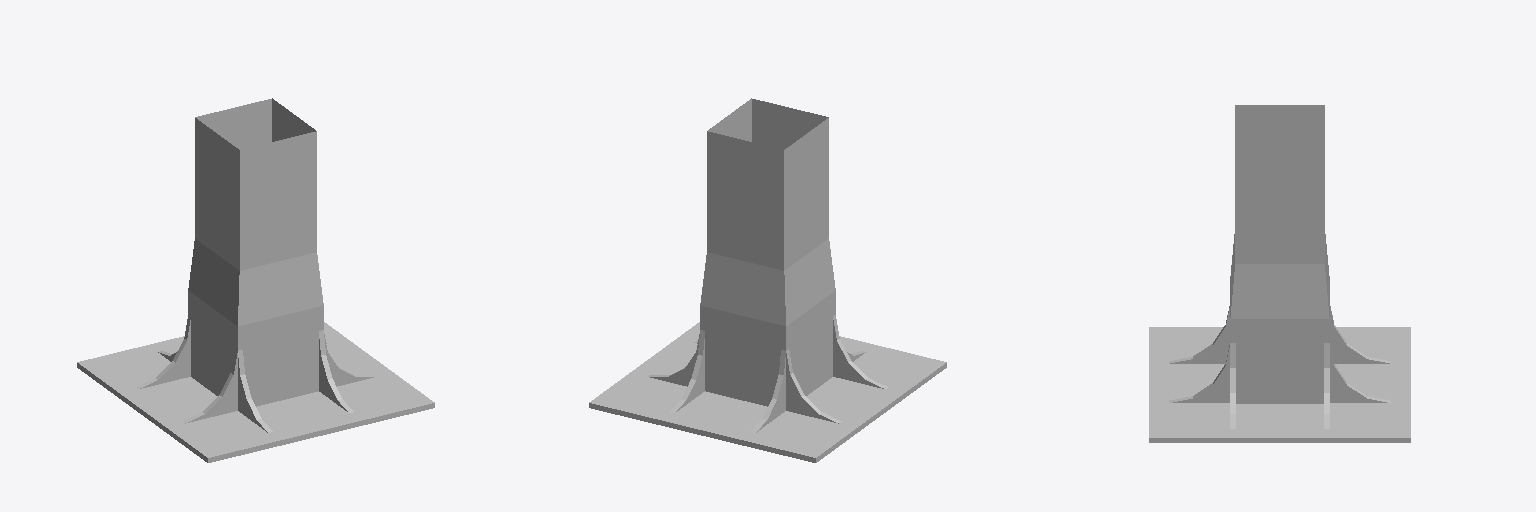
Rendered from lms_signal_gantry_lattic_base.obj.
3 renders of one model, left to right at view 1: azimuth 30°, elevation 25°; view 2: azimuth 150°, elevation 25°; view 3: azimuth 270°, elevation 25°, orthographic.
Visible parts, largest first — view 1: Gantry_base_Cube.037; view 2: Gantry_base_Cube.037; view 3: Gantry_base_Cube.037.
Boxes of the visible parts, x1=… form: Gantry_base_Cube.037: x1=77, y1=98, x2=434, y2=462; Gantry_base_Cube.037: x1=589, y1=98, x2=946, y2=462; Gantry_base_Cube.037: x1=1149, y1=105, x2=1410, y2=442.
Bounding box in the file's own units: 0.9014 × 1 × 0.9014.